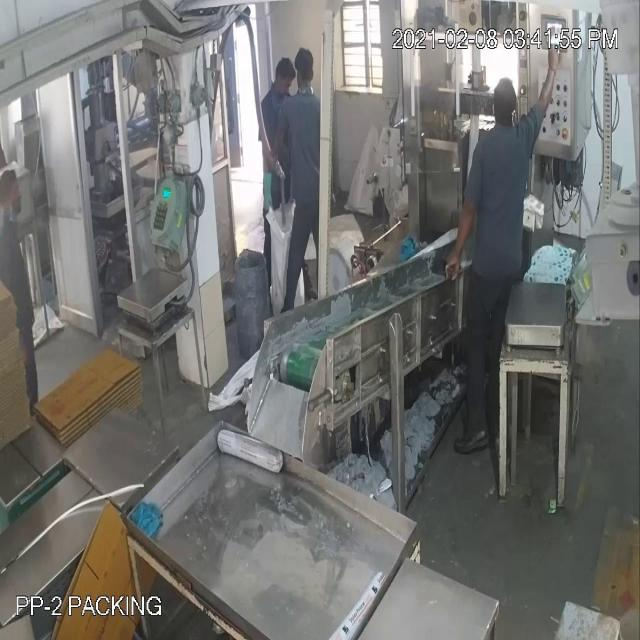No_Gloves: (41, 70, 550, 238)
